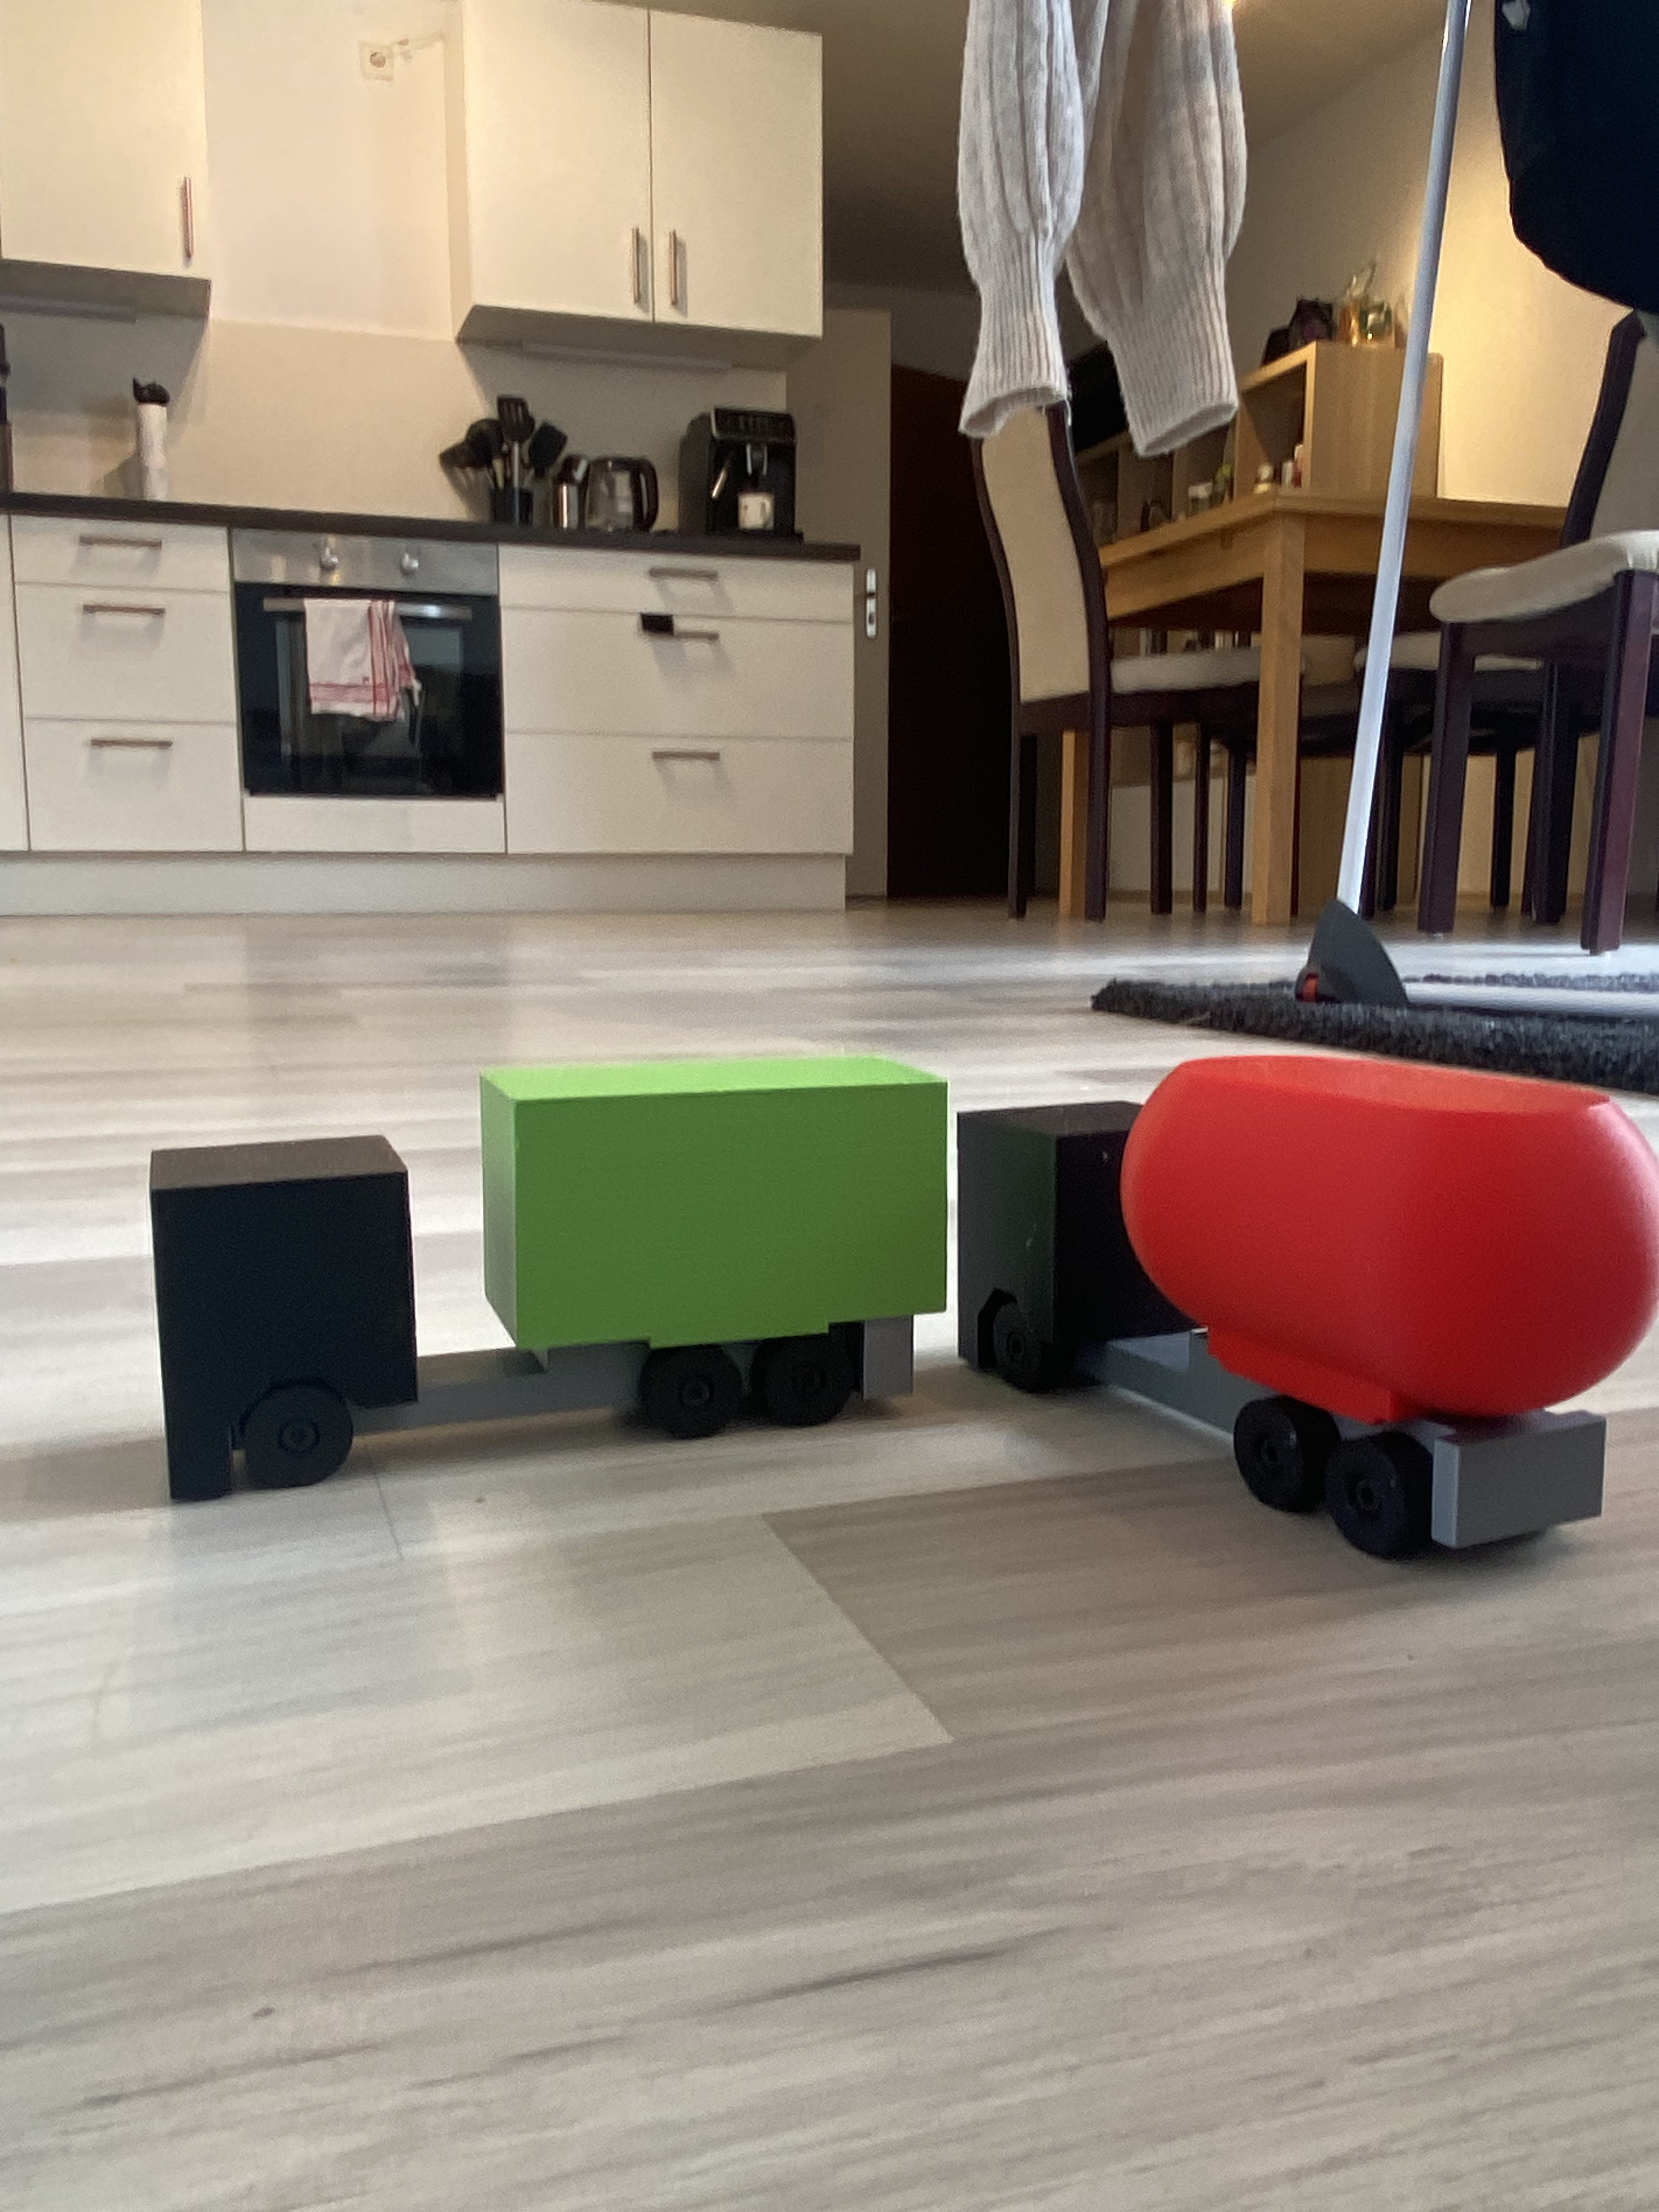green_truck: (328, 876, 781, 1686)
red_truck: (1051, 963, 1546, 1672)
